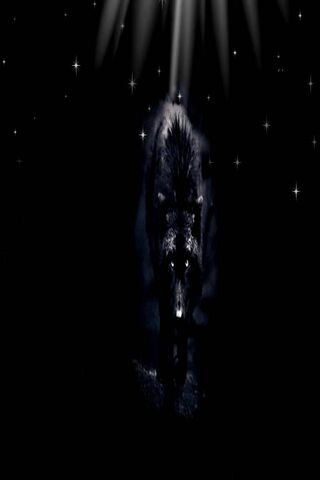Lobo: (128, 87, 237, 379)
